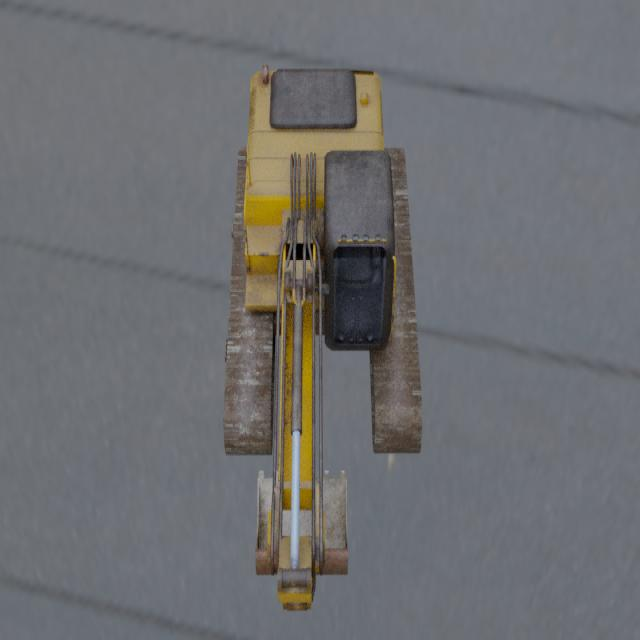excavator: (222, 62, 422, 610)
